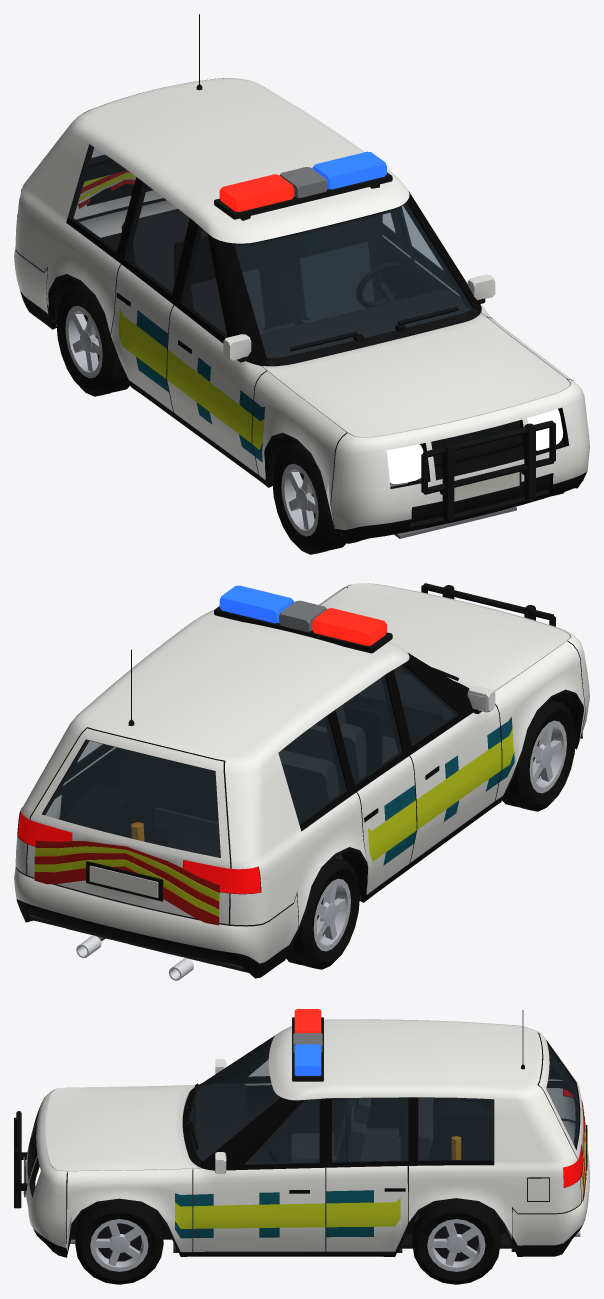
The model's file is patrol.glb.
3 views of the same model, one above another, from view 1: azimuth 30°, elevation 25°; view 2: azimuth 150°, elevation 25°; view 3: azimuth 270°, elevation 25° (orthographic). The views are drawn at different scales.
Visible parts, largest first — view 1: body, glass, interior, trim, wheel_rr, wheel_fr, lightbar, beacon_r, beacon_l, underside, headlight_r, livery (+1 smaller); view 2: body, glass, interior, trim, livery, underside, wheel_fr, wheel_rr, taillights, lightbar, beacon_r, beacon_l (+1 smaller); view 3: body, glass, interior, trim, wheel_fl, wheel_rl, underside, beacon_l, lightbar, beacon_r, taillights.
Part boxes in pixels (<box>): body: <box>14,78,589,543</box>; glass: <box>69,145,472,357</box>; interior: <box>84,159,478,365</box>; trim: <box>15,78,573,527</box>; wheel_rr: <box>56,285,129,396</box>; wheel_fr: <box>272,443,345,554</box>; lightbar: <box>214,167,392,220</box>; beacon_r: <box>219,174,294,211</box>; beacon_l: <box>312,151,386,189</box>; underside: <box>49,274,563,538</box>; headlight_r: <box>386,444,423,483</box>; livery: <box>78,170,135,208</box>; body: <box>14,583,589,978</box>; glass: <box>43,664,458,857</box>; interior: <box>55,668,454,925</box>; trim: <box>15,583,585,940</box>; livery: <box>34,840,219,925</box>; underside: <box>29,690,582,972</box>; wheel_fr: <box>502,700,575,811</box>; wheel_rr: <box>286,858,359,969</box>; taillights: <box>18,812,260,893</box>; lightbar: <box>214,600,392,653</box>; beacon_r: <box>312,608,386,645</box>; beacon_l: <box>219,585,294,623</box>; body: <box>25,1019,589,1257</box>; glass: <box>190,1038,578,1164</box>; interior: <box>182,1045,574,1248</box>; trim: <box>14,1032,587,1256</box>; wheel_fl: <box>75,1198,163,1284</box>; wheel_rl: <box>412,1198,500,1284</box>; underside: <box>60,1099,549,1252</box>; beacon_l: <box>294,1044,321,1075</box>; lightbar: <box>292,1017,323,1081</box>; beacon_r: <box>294,1009,321,1032</box>; taillights: <box>563,1080,582,1187</box>.
Size of the model in its own units: 1.95 by 2.17 by 4.7.
